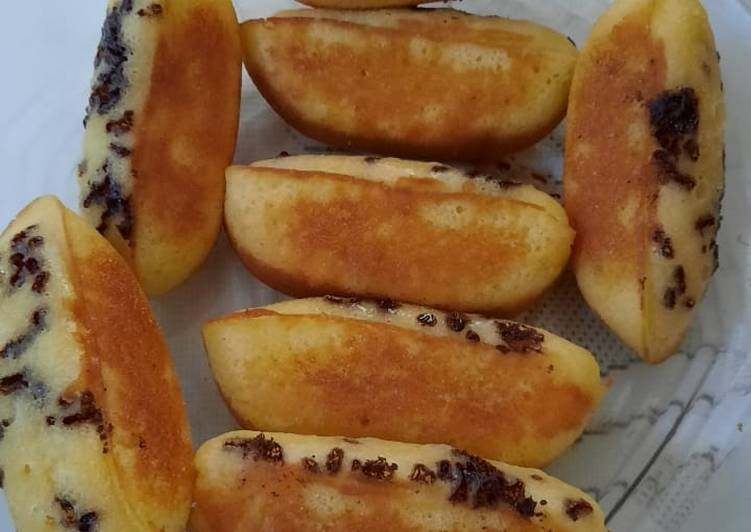pukis: (133, 303, 617, 450), (210, 130, 606, 299)
